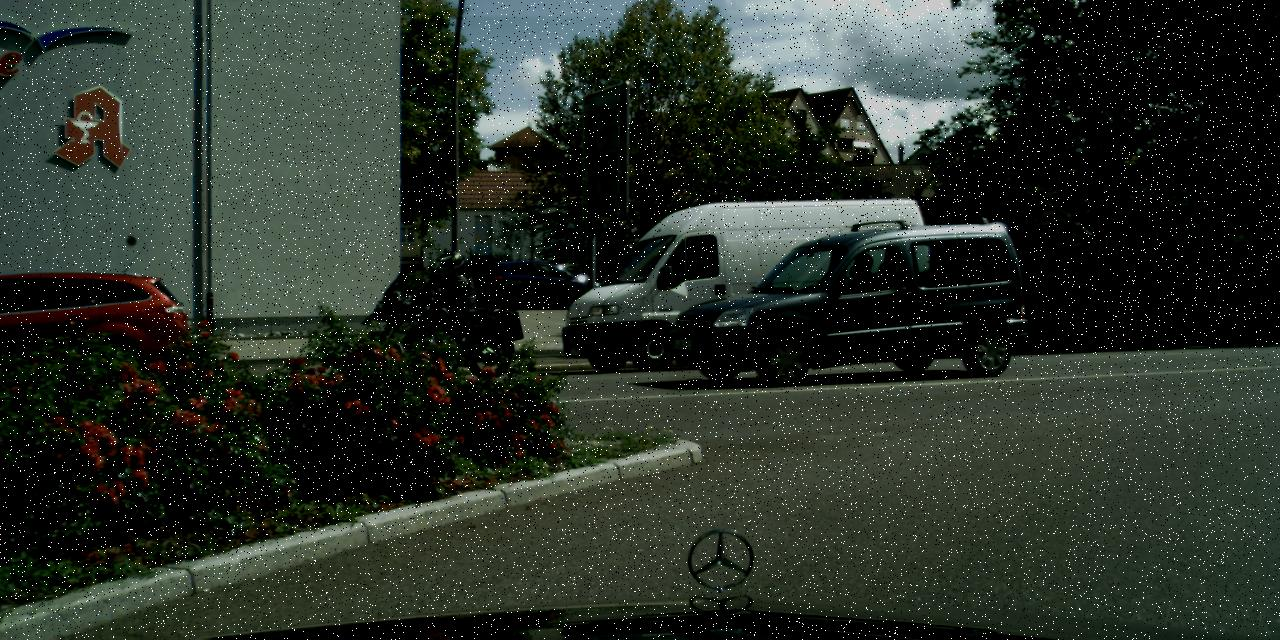ped: (424, 250, 472, 368)
